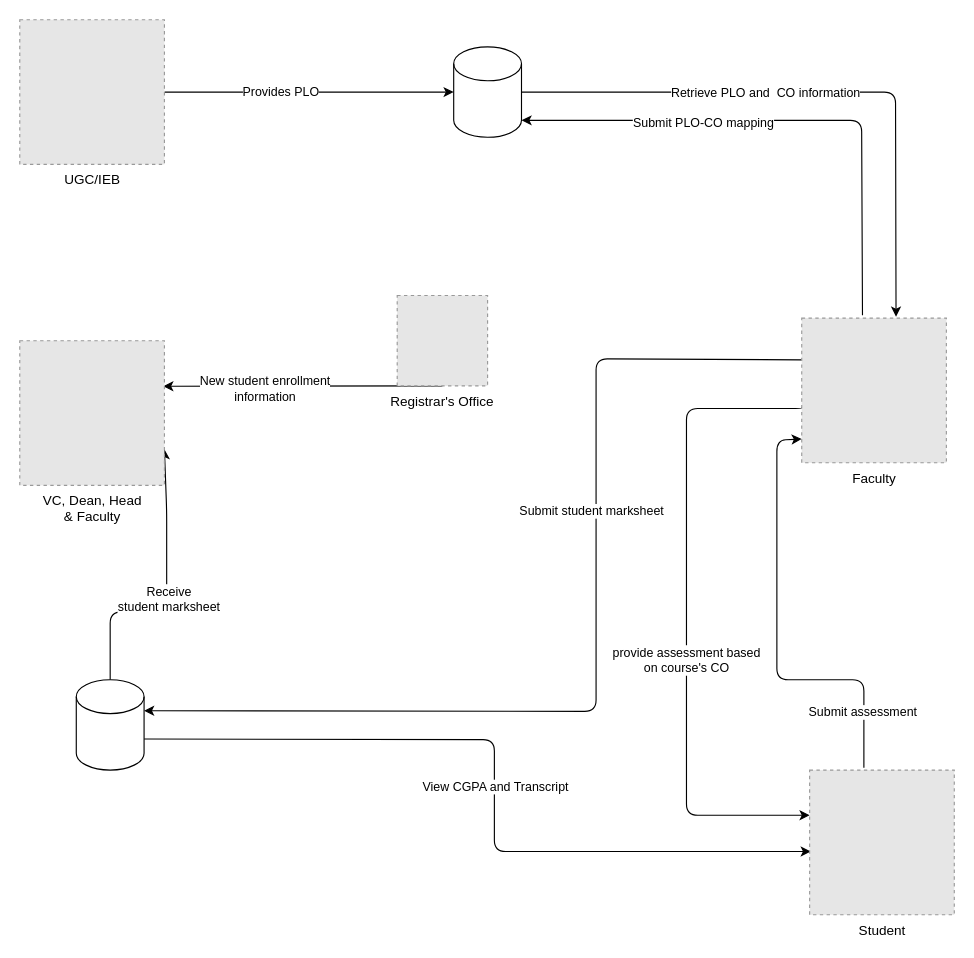
Image size: 974x958. Some labels were removed from this diagram. Grey dashed boxes stand in for pictures. Each missing label, with the centre of its shape:
"Depart- ment" belongs at [487,91].
"IRAS" belongs at [109,724].
